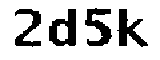2: (13, 6, 46, 50)
5: (84, 4, 115, 49)
d: (48, 6, 80, 51)
k: (118, 8, 151, 52)
